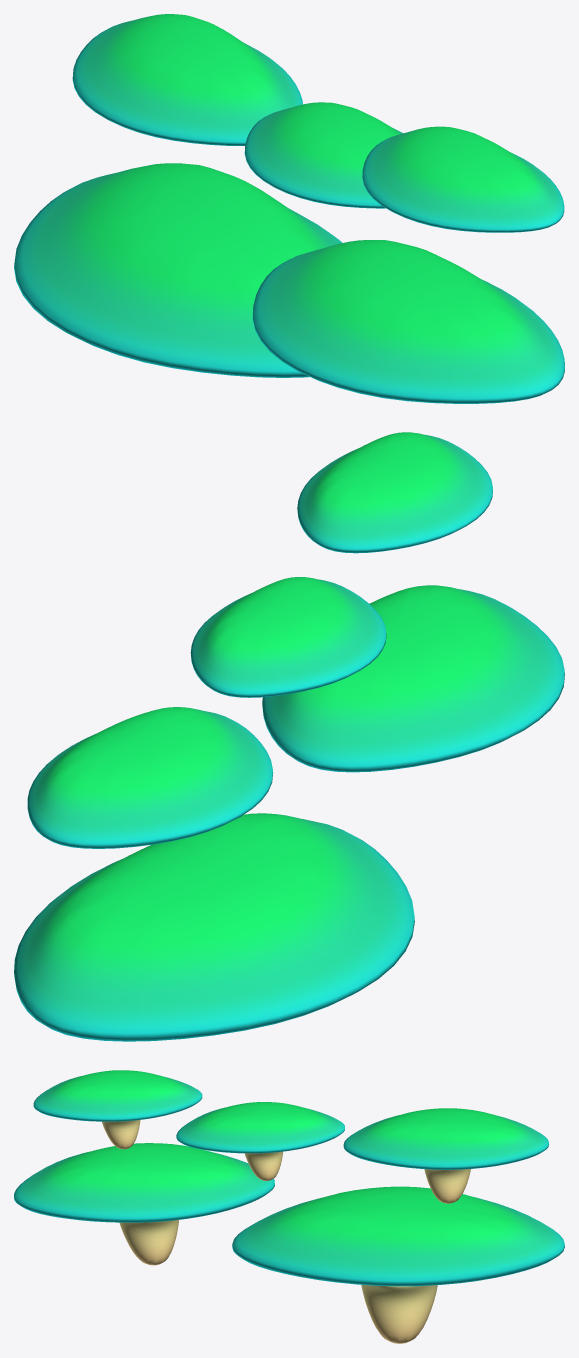
The model's file is WallMushrooms5.fbx.
3 renders of one model, top to bottom at view 1: azimuth 30°, elevation 25°; view 2: azimuth 150°, elevation 25°; view 3: azimuth 270°, elevation 25°, orthographic. The views are drawn at different scales.
Parts seen in each view (by area): view 1: MushroomCap.004, MushroomCap.005, MushroomCap.006, MushroomCap.008, MushroomCap.007; view 2: MushroomCap.004, MushroomCap.005, MushroomCap.006, MushroomCap.008, MushroomCap.007; view 3: MushroomCap.004, MushroomCap.005, MushroomCap.006, MushroomCap.008, MushroomCap.007, MushroomStem.004, MushroomStem.005, MushroomStem.006, MushroomStem.008, MushroomStem.007.
Boxes of the visible parts, x1,y1,x2,y2 form: MushroomCap.004: [14, 163, 342, 377]; MushroomCap.005: [252, 240, 564, 403]; MushroomCap.006: [72, 14, 302, 145]; MushroomCap.008: [362, 126, 564, 232]; MushroomCap.007: [244, 102, 402, 208]; MushroomCap.004: [14, 813, 414, 1041]; MushroomCap.005: [262, 585, 564, 772]; MushroomCap.006: [27, 707, 272, 848]; MushroomCap.008: [297, 432, 492, 553]; MushroomCap.007: [190, 577, 386, 697]; MushroomCap.004: [232, 1186, 564, 1286]; MushroomCap.005: [14, 1143, 274, 1222]; MushroomCap.006: [343, 1108, 548, 1169]; MushroomCap.008: [33, 1070, 202, 1121]; MushroomCap.007: [176, 1102, 344, 1153]; MushroomStem.004: [361, 1284, 437, 1343]; MushroomStem.005: [119, 1220, 178, 1265]; MushroomStem.006: [424, 1169, 470, 1203]; MushroomStem.008: [102, 1120, 140, 1149]; MushroomStem.007: [244, 1151, 283, 1180].
Bounding box in the file's own units: 758 × 952 × 1883.
